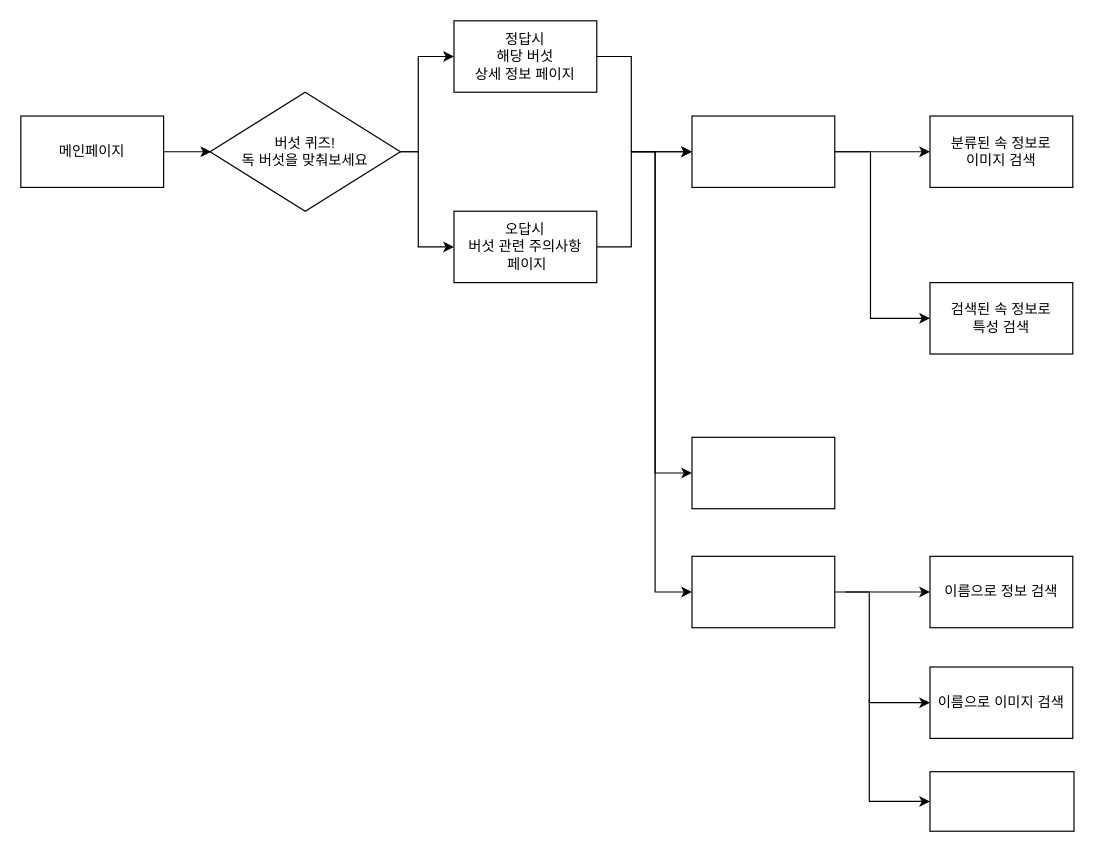
Some shapes in this 1095 by 852 pixel diagram are drawn without their labels. The shapes that lost their labels are listed below. From the top down, each one's box as (x1, y1, x2, y2) in pixels, then its label:
(691, 115, 835, 187): 버섯 이미지로 '속' 분류 (CNN)
(691, 436, 835, 509): 버섯 형태 정보로 독성 유무 검색 (딥러닝)
(691, 555, 835, 628): 버섯 정보 검색
(929, 771, 1074, 831): 분류로 정보 검색
